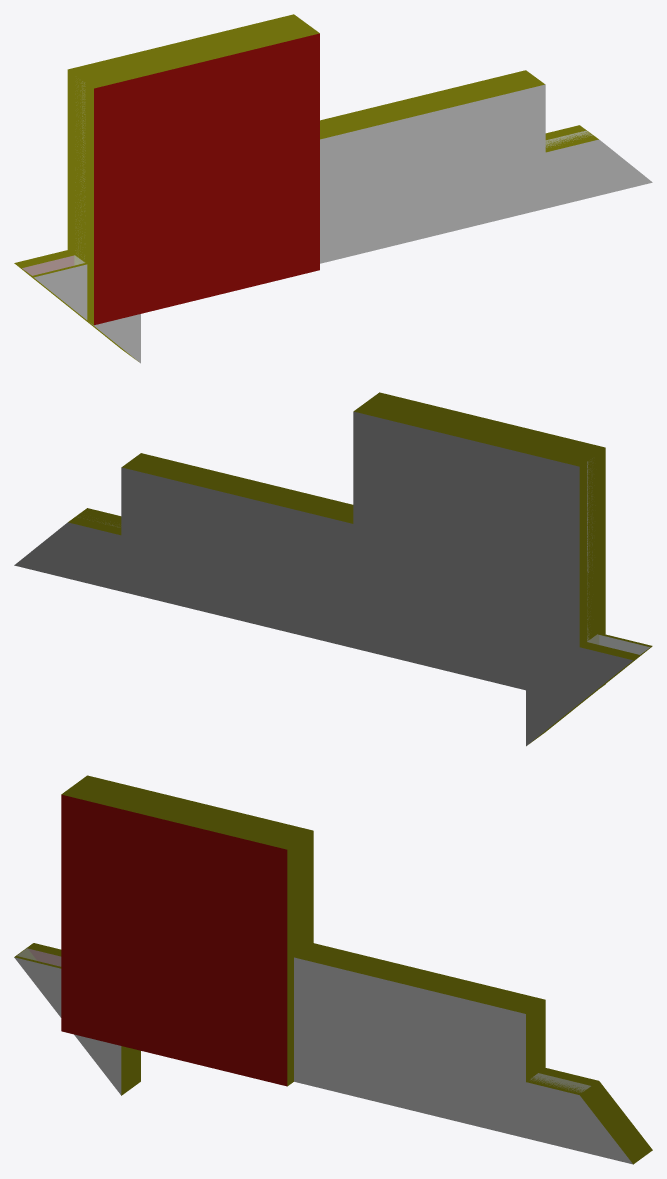
Rendered from idf.obj.
The picture shows the model from 3 angles, top to bottom: view 1: azimuth 30°, elevation 25°; view 2: azimuth 150°, elevation 25°; view 3: azimuth 330°, elevation 25°; orthographic projection.
Bounding box in the file's own units: 54.75 × 24.75 × 4.
